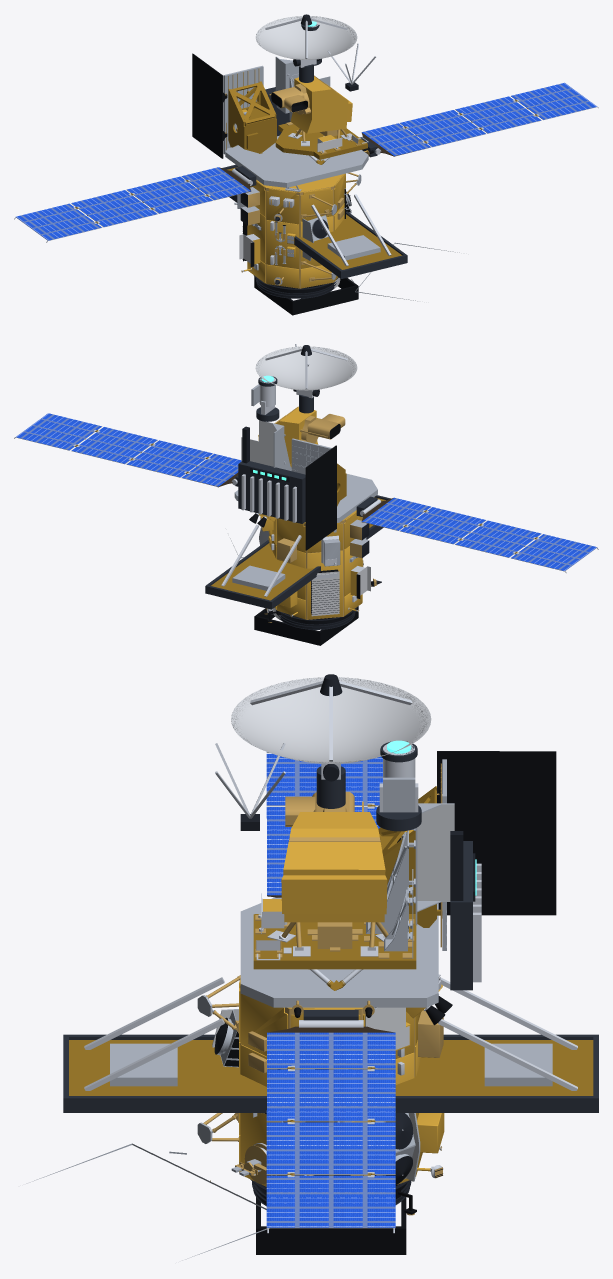
File: satellite.glb
3 renders of one model, top to bottom at view 1: azimuth 30°, elevation 25°; view 2: azimuth 150°, elevation 25°; view 3: azimuth 270°, elevation 25°, orthographic. The views are drawn at different scales.
Parts seen in each view (by area): view 1: Body, Wing_Extra, Wing_Base, Deck, Antenna_Dish, Camera_Hyper; view 2: Body, Wing_Extra, Wing_Base, Deck, Antenna_Dish, Battery_Pack, Camera_Hyper, Antenna_Laser; view 3: Body, Deck, Wing_Base, Antenna_Dish, Wing_Extra, Battery_Pack, Camera_Hyper, Antenna_Laser, Antenna_Whip, Hinge_Wing_Base.
Part boxes in pixels (x1,y1,x2,y2): Body: (192,53,459,301); Wing_Extra: (14,167,251,242); Wing_Base: (361,82,598,156); Deck: (222,164,407,278); Antenna_Dish: (255,14,357,82); Camera_Hyper: (254,277,358,315); Body: (230,406,381,629); Wing_Extra: (361,497,598,573); Wing_Base: (14,413,241,487); Deck: (205,495,390,609); Antenna_Dish: (255,345,357,413); Battery_Pack: (238,426,305,523); Camera_Hyper: (254,606,358,645); Antenna_Laser: (251,375,279,421); Body: (26,751,556,1260); Deck: (63,977,598,1112); Wing_Base: (266,1026,395,1233); Antenna_Dish: (231,674,431,808); Wing_Extra: (266,752,382,897); Battery_Pack: (450,831,481,990); Camera_Hyper: (256,1121,406,1254); Antenna_Laser: (376,740,421,831); Antenna_Whip: (215,743,285,830); Hinge_Wing_Base: (299,1010,363,1027).
Bounding box in the file's own units: 7.77 × 3.73 × 3.62.
17 materials, 1 textured.
